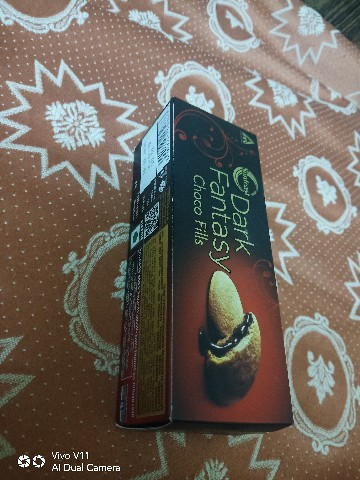darkfantasy big: (124, 93, 297, 454)
